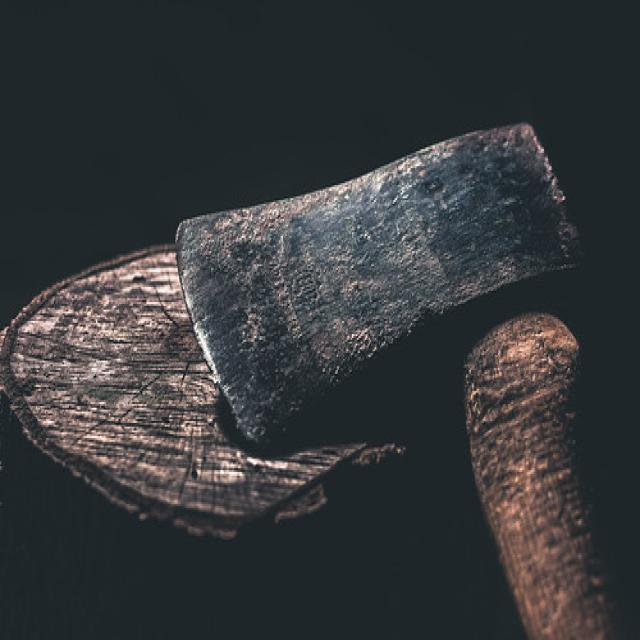Axe: (176, 124, 611, 640)
